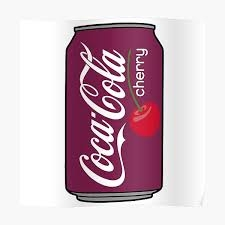metal: (56, 19, 176, 207)
